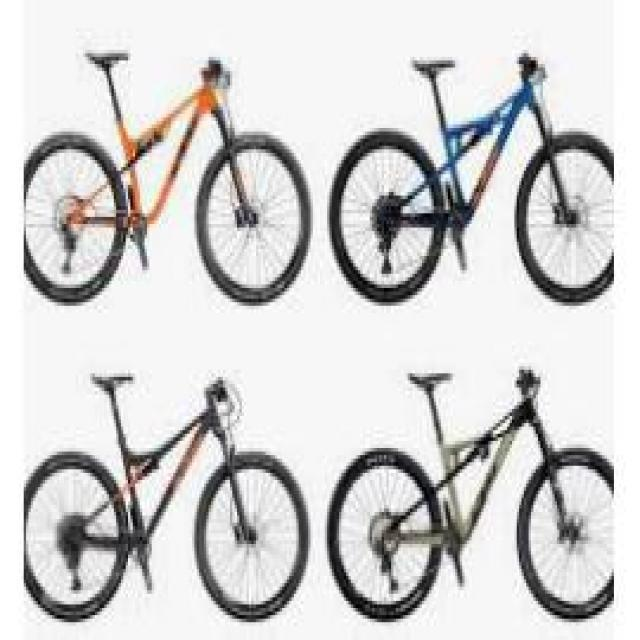bicycle: (332, 364, 623, 624), (23, 51, 317, 307), (333, 47, 620, 307), (25, 371, 312, 627)
